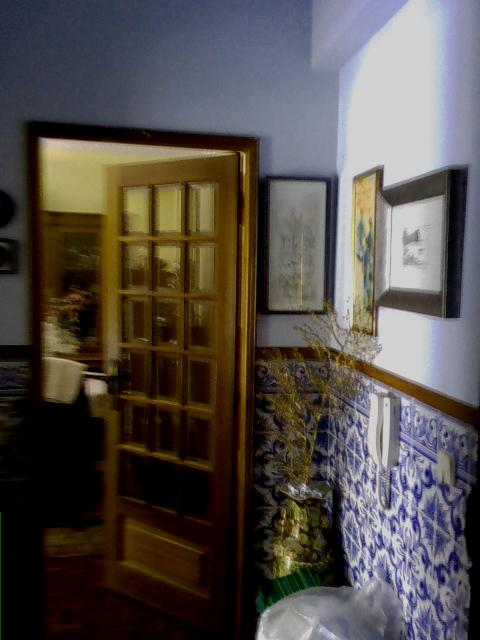semi_door: (23, 121, 262, 639)
